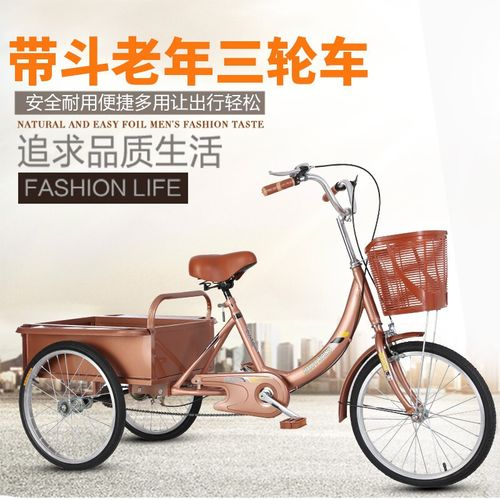empty: (17, 162, 500, 495)
